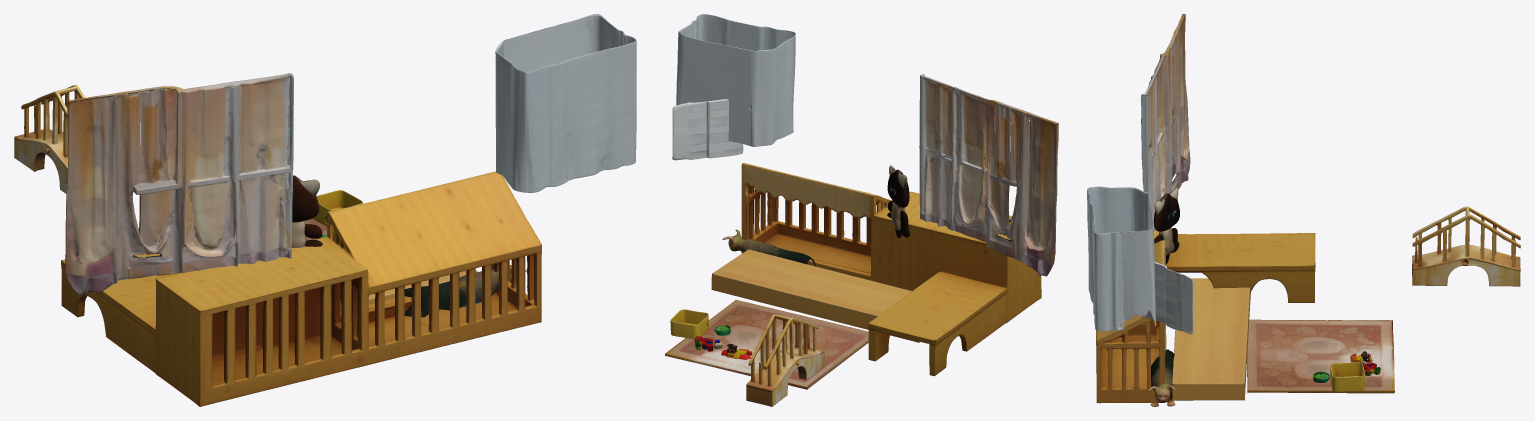
The model's file is ours.glb.
3 renders of one model, left to right at view 1: azimuth 30°, elevation 25°; view 2: azimuth 150°, elevation 25°; view 3: azimuth 270°, elevation 25°, orthographic. The views are drawn at different scales.
Parts seen in each view (by area): view 1: geometry_14, geometry_2, geometry_6, geometry_1, geometry_3, geometry_13, geometry_0; view 2: geometry_14, geometry_2, geometry_6, geometry_8, geometry_5, geometry_1, geometry_11, geometry_3, geometry_13, geometry_0; view 3: geometry_14, geometry_5, geometry_6, geometry_8, geometry_2, geometry_1, geometry_11, geometry_3, geometry_0, geometry_13.
Part boxes in pixels (x1,y1,x2,y2): geometry_14: [61, 171, 541, 406]; geometry_2: [65, 73, 293, 295]; geometry_6: [495, 14, 636, 192]; geometry_1: [14, 85, 85, 193]; geometry_3: [291, 175, 322, 247]; geometry_13: [404, 265, 526, 317]; geometry_0: [312, 190, 362, 226]; geometry_14: [741, 163, 1041, 376]; geometry_2: [919, 74, 1058, 276]; geometry_6: [676, 14, 795, 146]; geometry_8: [711, 249, 919, 342]; geometry_5: [665, 300, 868, 389]; geometry_1: [746, 314, 824, 406]; geometry_11: [672, 99, 743, 160]; geometry_3: [887, 165, 909, 237]; geometry_13: [722, 229, 815, 266]; geometry_0: [670, 309, 708, 339]; geometry_14: [1096, 229, 1315, 403]; geometry_5: [1247, 319, 1394, 393]; geometry_6: [1087, 186, 1155, 331]; geometry_8: [1172, 278, 1250, 400]; geometry_2: [1141, 14, 1190, 230]; geometry_1: [1412, 206, 1520, 286]; geometry_11: [1141, 262, 1193, 334]; geometry_3: [1154, 187, 1179, 263]; geometry_0: [1330, 362, 1364, 391]; geometry_13: [1148, 349, 1175, 406].
Bounding box in the file's own units: 1.99 × 1.09 × 1.81.
Materials: 15 (15 with a texture image).
